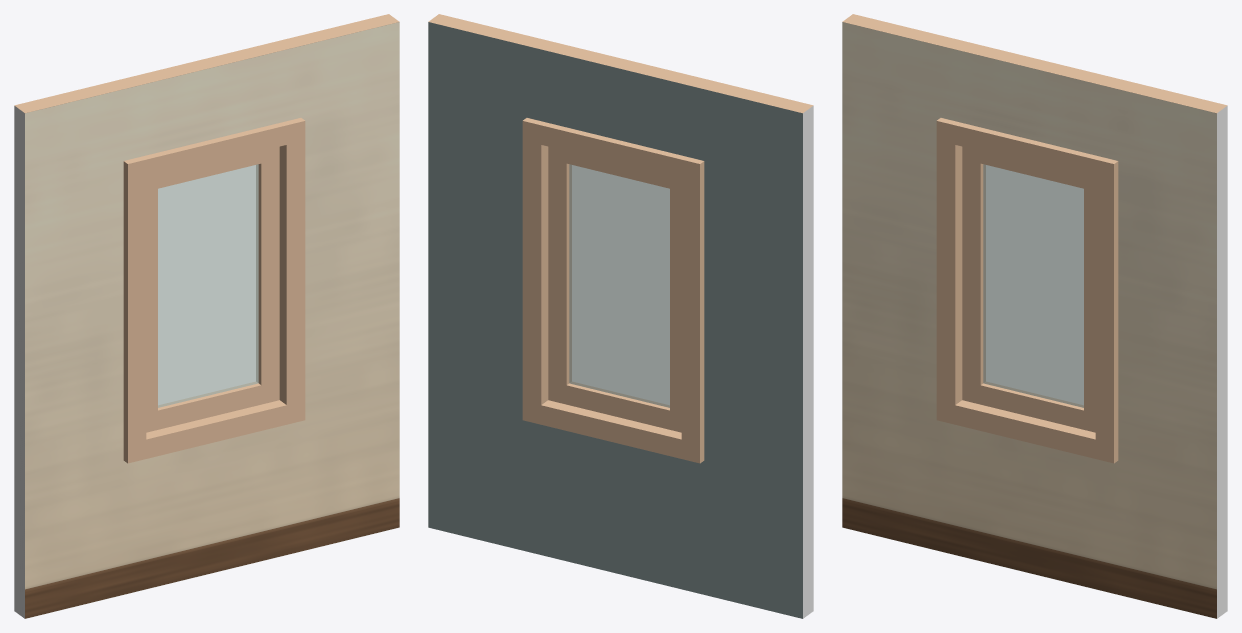
Rendered from wallWindow.glb.
The picture shows the model from 3 angles, left to right: view 1: azimuth 30°, elevation 25°; view 2: azimuth 150°, elevation 25°; view 3: azimuth 330°, elevation 25°; orthographic projection.
Visible parts, largest first — view 1: wallWindow; view 2: wallWindow; view 3: wallWindow.
Boxes of the visible parts, left/top/right/bottom form: wallWindow: left=14, top=14, right=399, bottom=618; wallWindow: left=428, top=14, right=813, bottom=618; wallWindow: left=842, top=14, right=1227, bottom=618.
Bounding box in the file's own units: 1 × 1.29 × 0.0891.
Materials: 5 (1 with a texture image).
